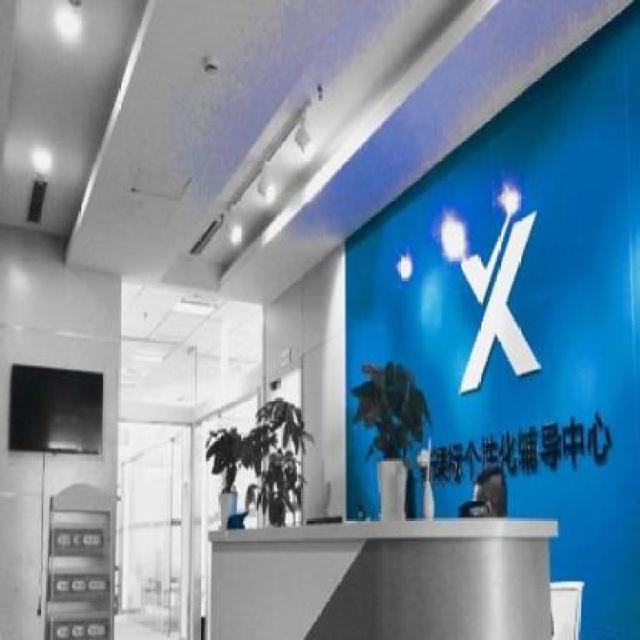frontdesk: (198, 504, 566, 640)
